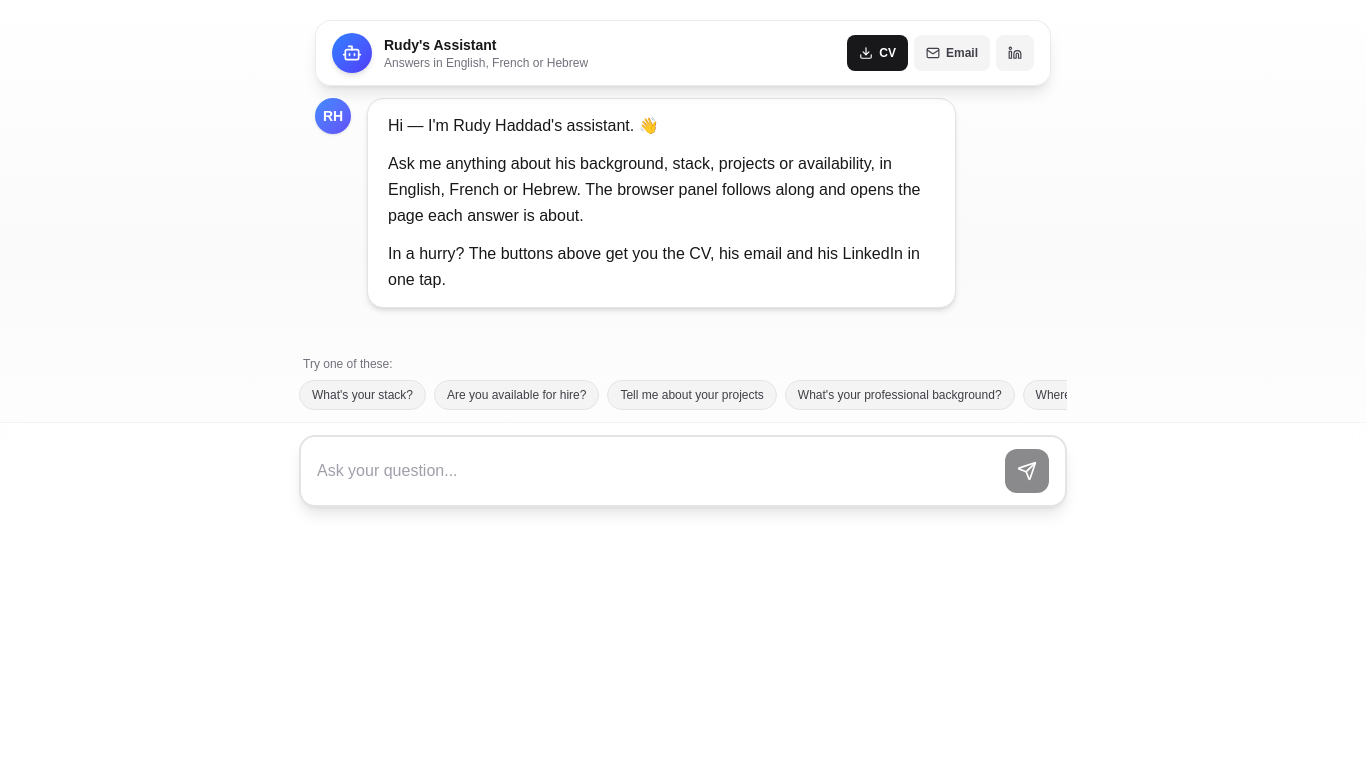
Scenario: waiting for a slow agent › offers a stop button that ends the wait
Type "hello" into the field named "ask a question". click: (657, 471)
box: [317,459,997,483]
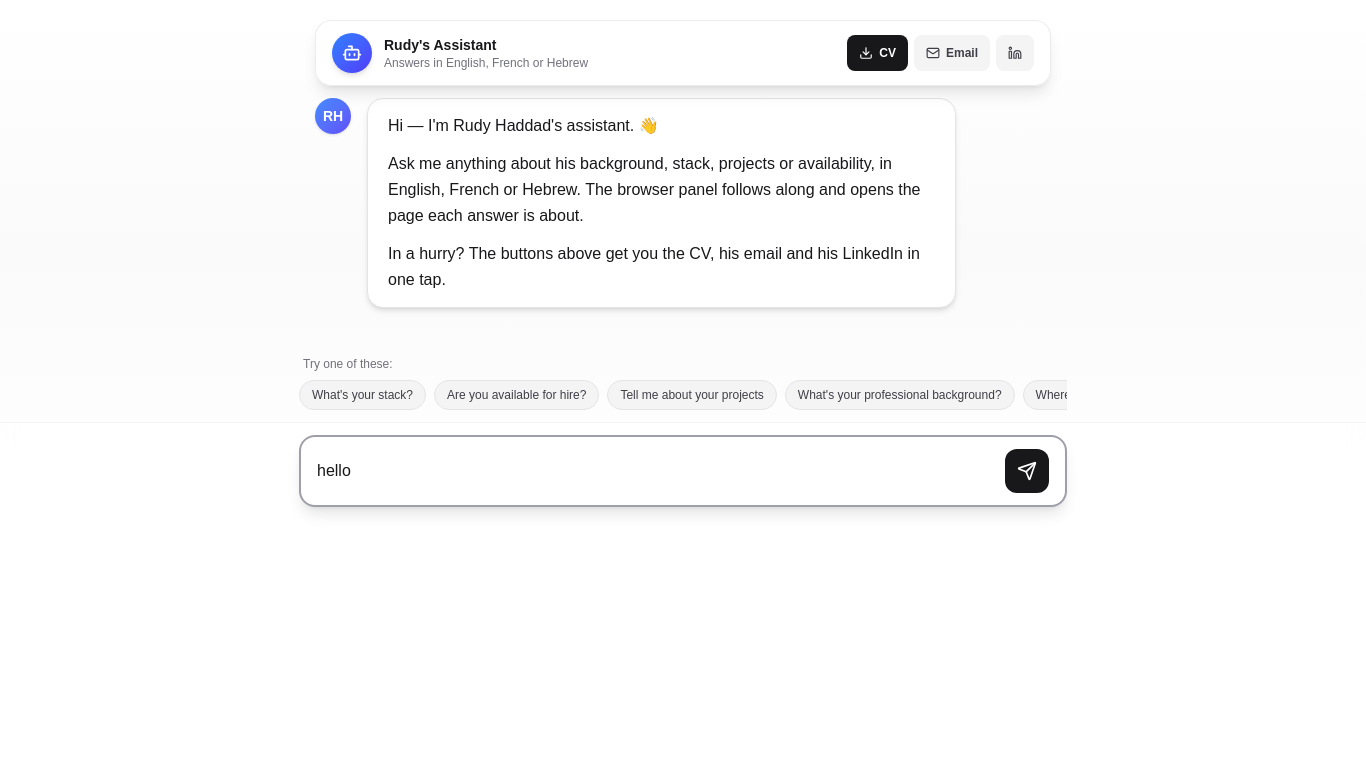
Click the button named "send message". click: (1027, 471)
box: [1005,449,1049,493]
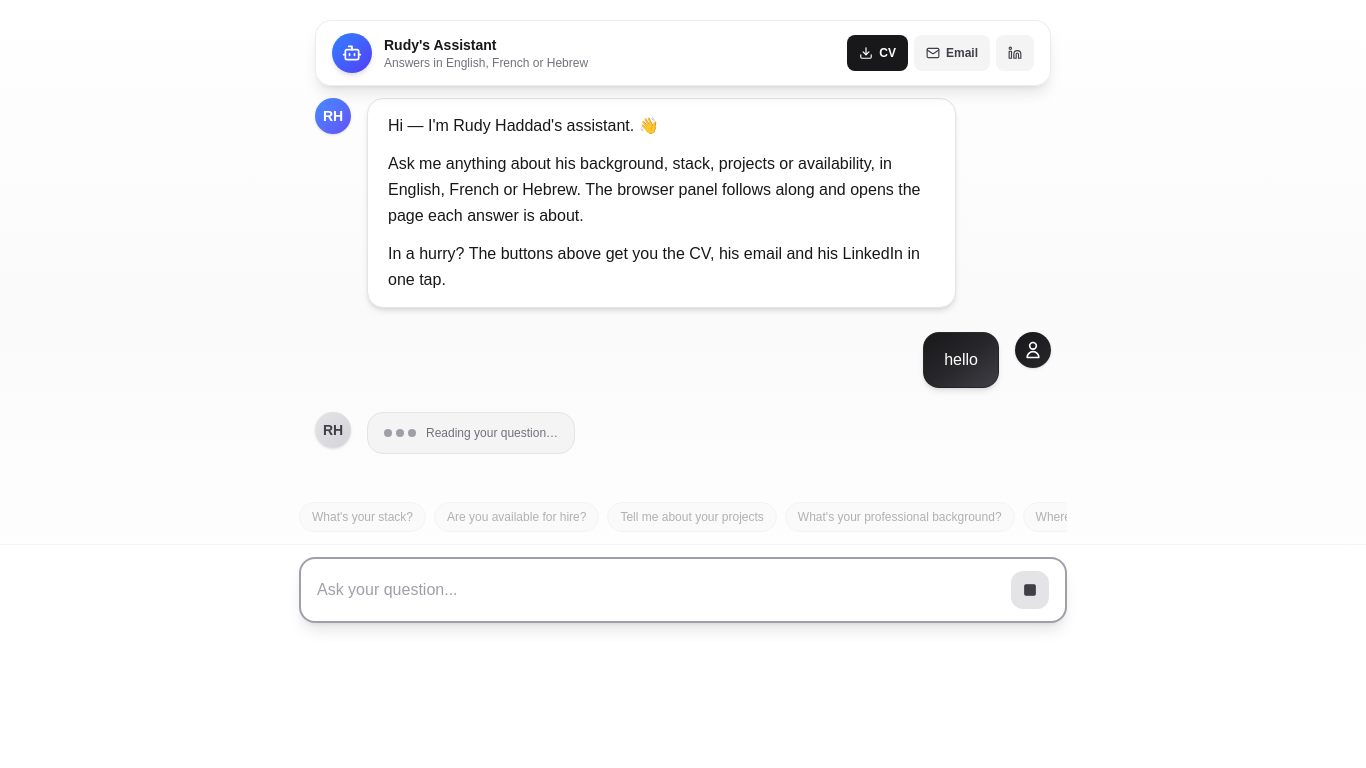
Click the button named "stop generating". click: (1030, 590)
box: [1011,571,1049,609]
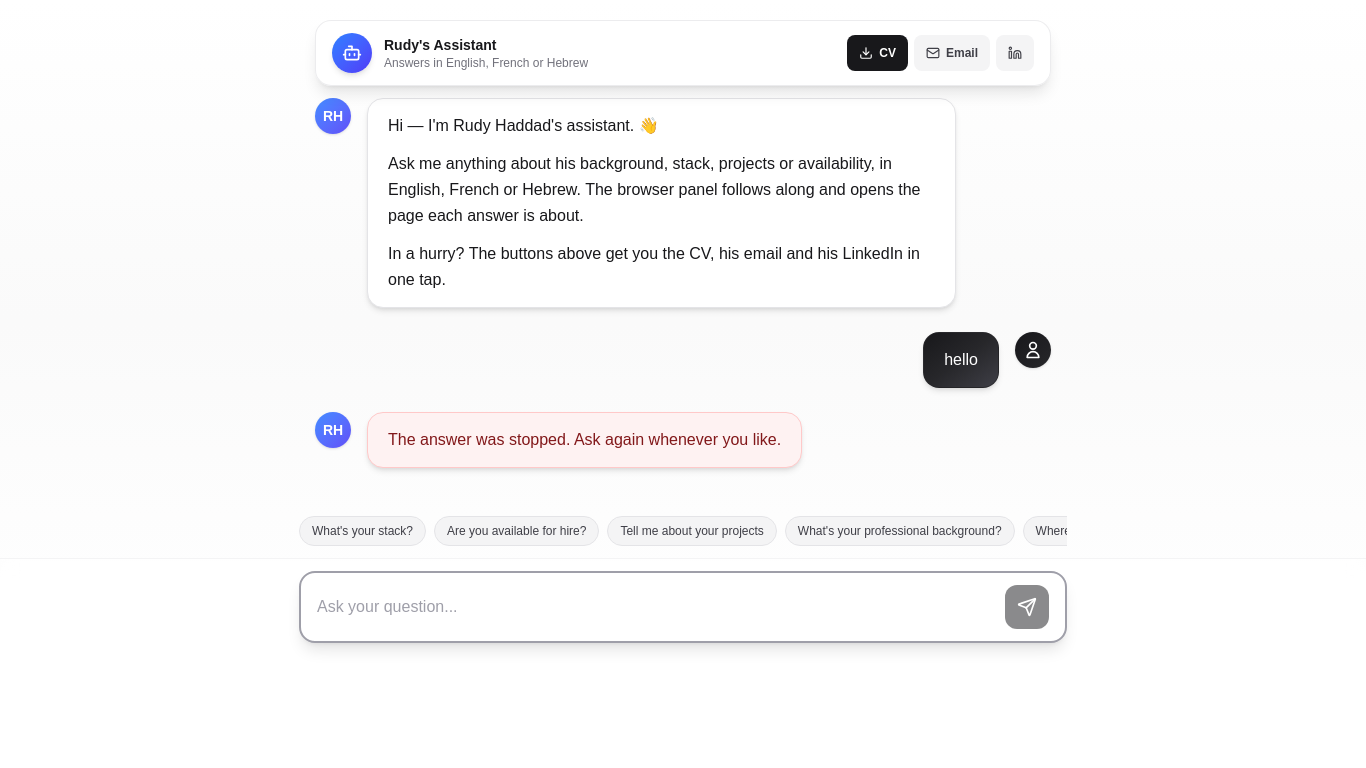
Check: the text "The answer was stopped. Ask again whenever you like." is shown, box [388,431,781,448]
Check: the button named "send message" is shown, box [1005,585,1049,629]
